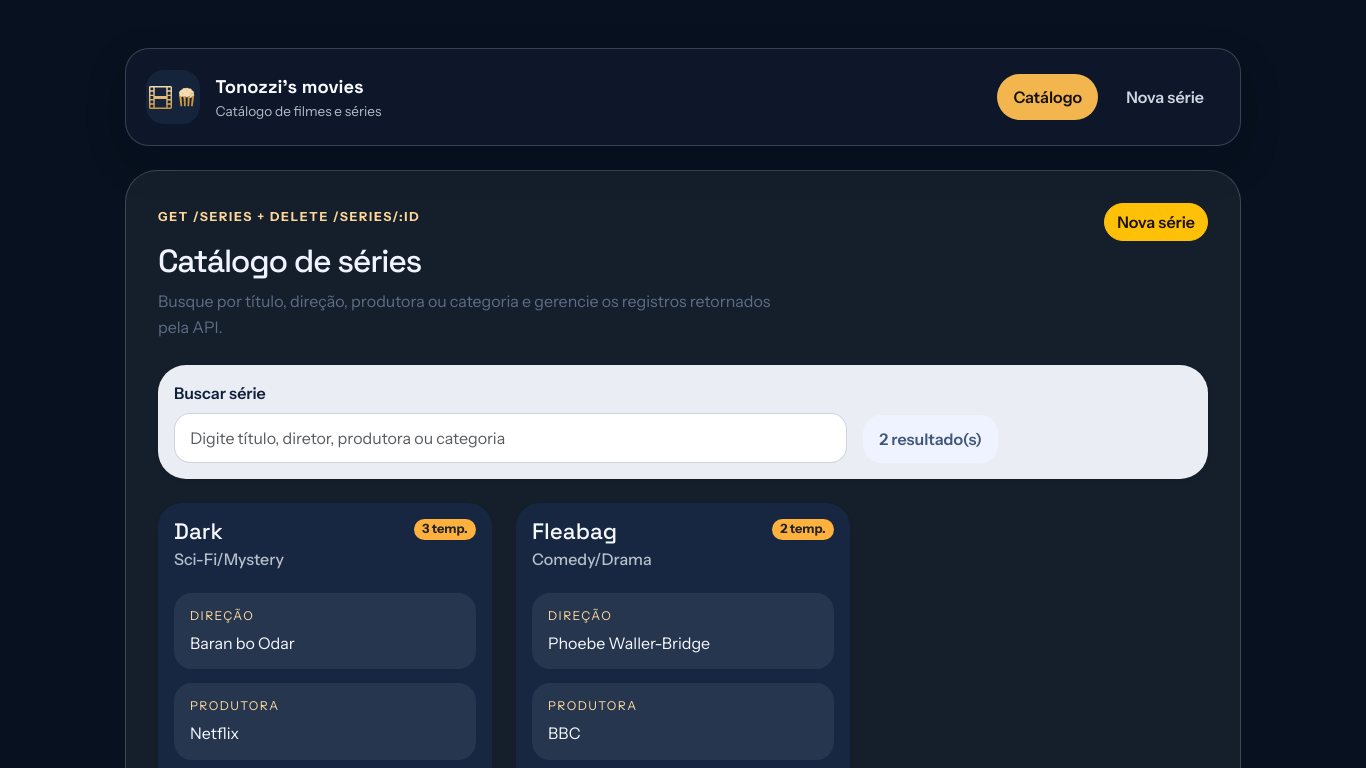
Serie Journal happy paths › lista as séries da API e filtra pela busca
The width and height of the screenshot is (1366, 768).
Expected: the text "Dark" is shown, [174,517,223,546]
Expected: the text "Fleabag" is shown, [532,517,617,546]
Type "dark" into the search field with id "serie-search" at (511, 438), box [174,413,847,463]
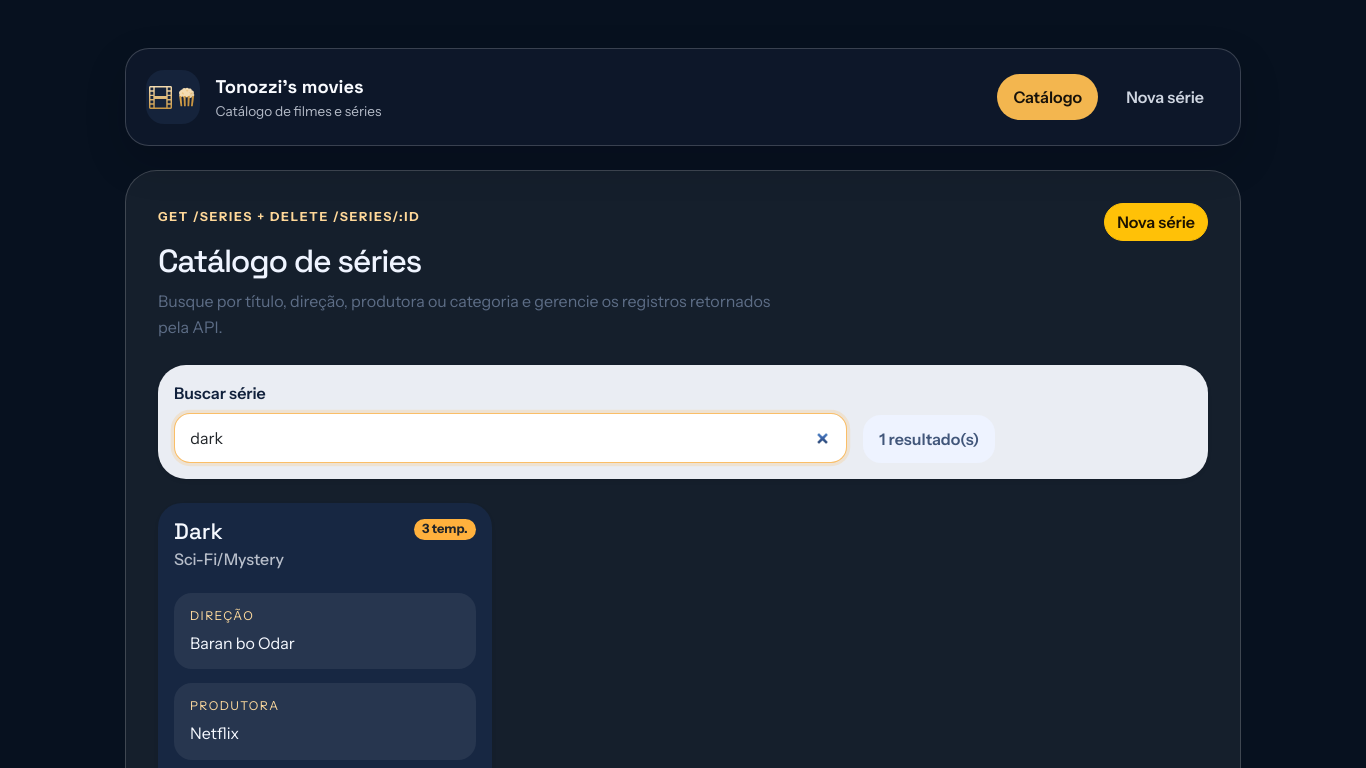
Expected: the text "Dark" is shown, [174,517,223,546]
Result: the heading "Fleabag" is gone
Result: the text "1 resultado(s)" is shown at [863,415,995,463]
